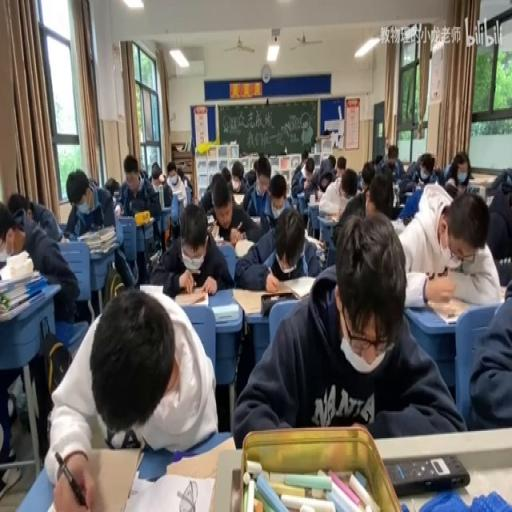calculator: (125, 469, 214, 512), (162, 434, 233, 480), (233, 280, 314, 314), (425, 296, 470, 324), (174, 287, 208, 306), (212, 302, 238, 324), (234, 236, 256, 256), (306, 230, 326, 250), (138, 284, 164, 296), (470, 174, 494, 186), (148, 249, 160, 269), (208, 222, 220, 240), (230, 192, 245, 206), (499, 282, 509, 300), (248, 213, 262, 225), (157, 184, 163, 208), (467, 182, 480, 193), (296, 189, 306, 202), (307, 201, 320, 209), (59, 233, 69, 243), (206, 213, 214, 225)
paper: (232, 213, 458, 444), (45, 281, 216, 505), (1, 195, 80, 327), (465, 268, 512, 430), (152, 202, 230, 296), (119, 155, 163, 270), (64, 166, 115, 238), (485, 168, 512, 266), (254, 168, 296, 230), (362, 168, 400, 222), (317, 165, 355, 219), (163, 160, 187, 230), (443, 151, 472, 192), (237, 161, 261, 209), (290, 152, 312, 198), (411, 151, 439, 185), (6, 192, 32, 223), (380, 144, 402, 179), (200, 176, 216, 212), (398, 174, 419, 200), (104, 176, 120, 199), (150, 171, 164, 189), (336, 155, 346, 176), (221, 166, 232, 185), (166, 161, 177, 176), (327, 154, 336, 172), (181, 174, 191, 189), (87, 176, 98, 186), (114, 202, 122, 215), (373, 154, 382, 165), (138, 169, 146, 181), (301, 150, 307, 164), (390, 155, 396, 165)
person: (384, 452, 470, 494)
